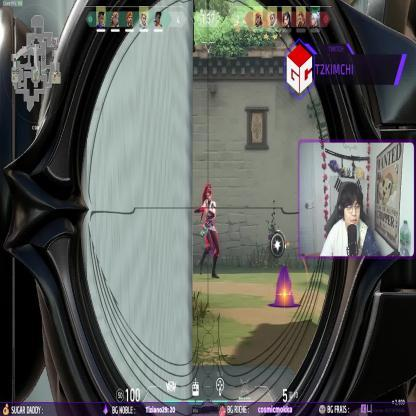enemy: (194, 183, 220, 280)
enemy_head: (206, 186, 212, 202)
